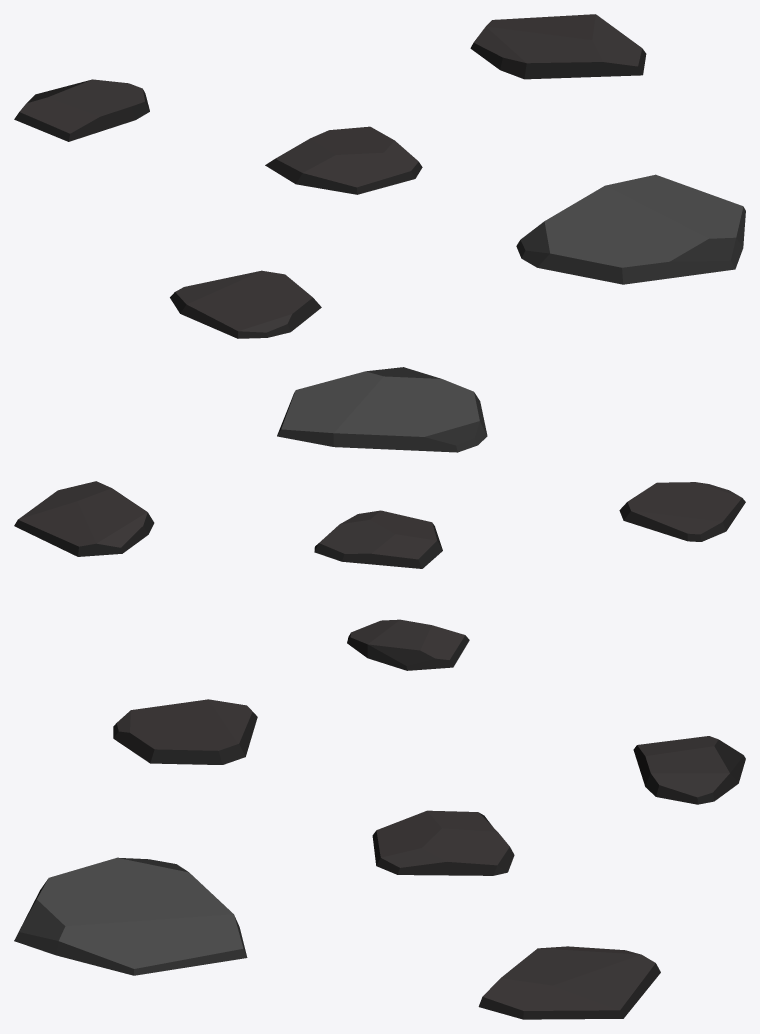
Rendered from rock_patch_02.glb.
3 views of the same model, one above another, from view 1: azimuth 30°, elevation 25°; view 2: azimuth 150°, elevation 25°; view 3: azimuth 270°, elevation 25° (orthographic). The views are drawn at different scales.
Parts seen in each view (by area): view 1: Rock_Patch_02; view 2: Rock_Patch_02; view 3: Rock_Patch_02.
Part boxes in pixels (left/top/right/bottom): Rock_Patch_02: left=14, top=14, right=745, bottom=338; Rock_Patch_02: left=14, top=367, right=745, bottom=670; Rock_Patch_02: left=14, top=699, right=745, bottom=1019.
Size of what is drawn, in the model's own units: 1.56 by 0.0343 by 1.53.
1 material, 1 textured.
